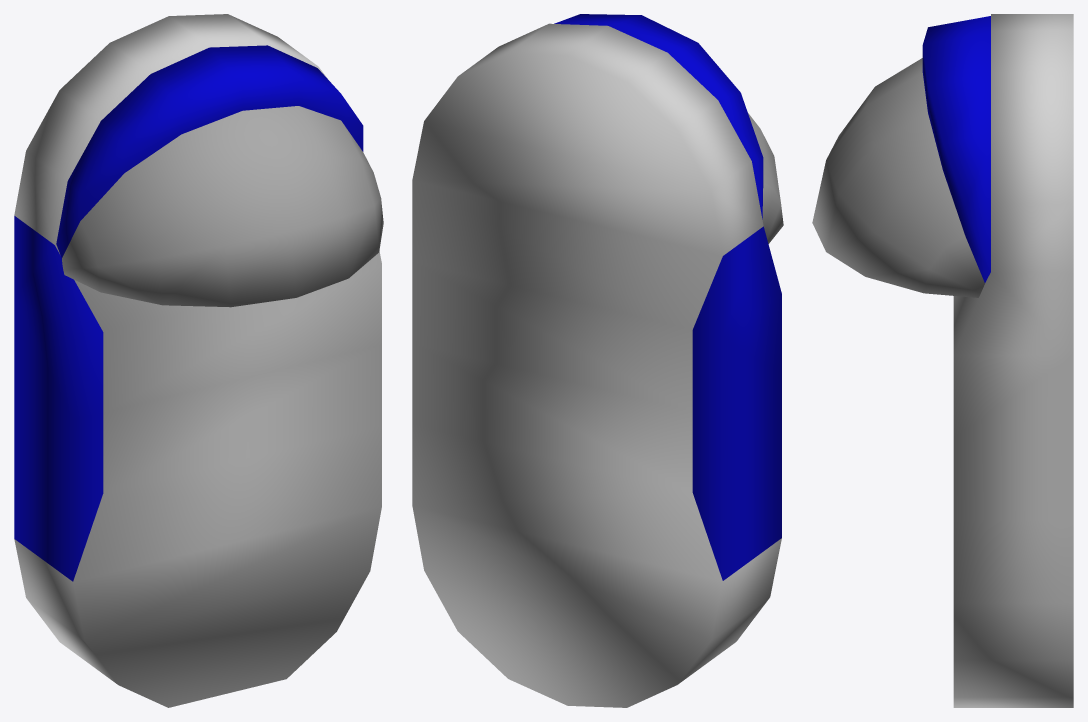
The model's file is lfoot.obj.
The picture shows the model from 3 angles, left to right: view 1: azimuth 30°, elevation 25°; view 2: azimuth 150°, elevation 25°; view 3: azimuth 270°, elevation 25°; orthographic projection. The views are drawn at different scales.
Visible parts, largest first — view 1: foot.002_Sphere.002; view 2: foot.002_Sphere.002; view 3: foot.002_Sphere.002.
Part boxes in pixels (box(x1,y1,x2,y2)): foot.002_Sphere.002: box(14, 14, 383, 707); foot.002_Sphere.002: box(412, 14, 783, 707); foot.002_Sphere.002: box(812, 14, 1073, 707).
Size of the model in its own units: 1.1 by 2.2 by 0.7892.
